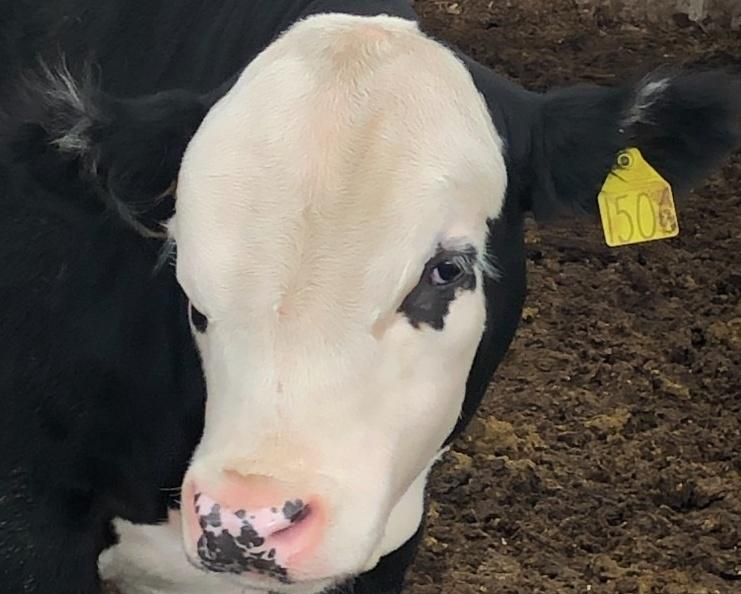muzzles: (171, 468, 372, 594)
